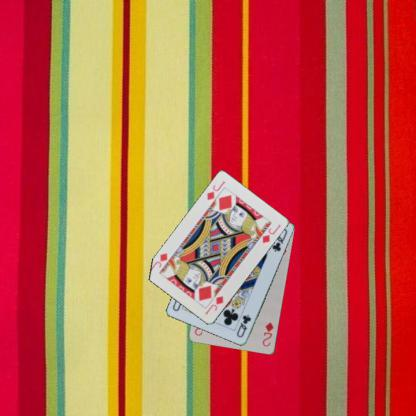2d: (260, 319, 275, 348)
Jd: (204, 178, 226, 202), (202, 294, 225, 316)
Qc: (234, 312, 252, 339)
